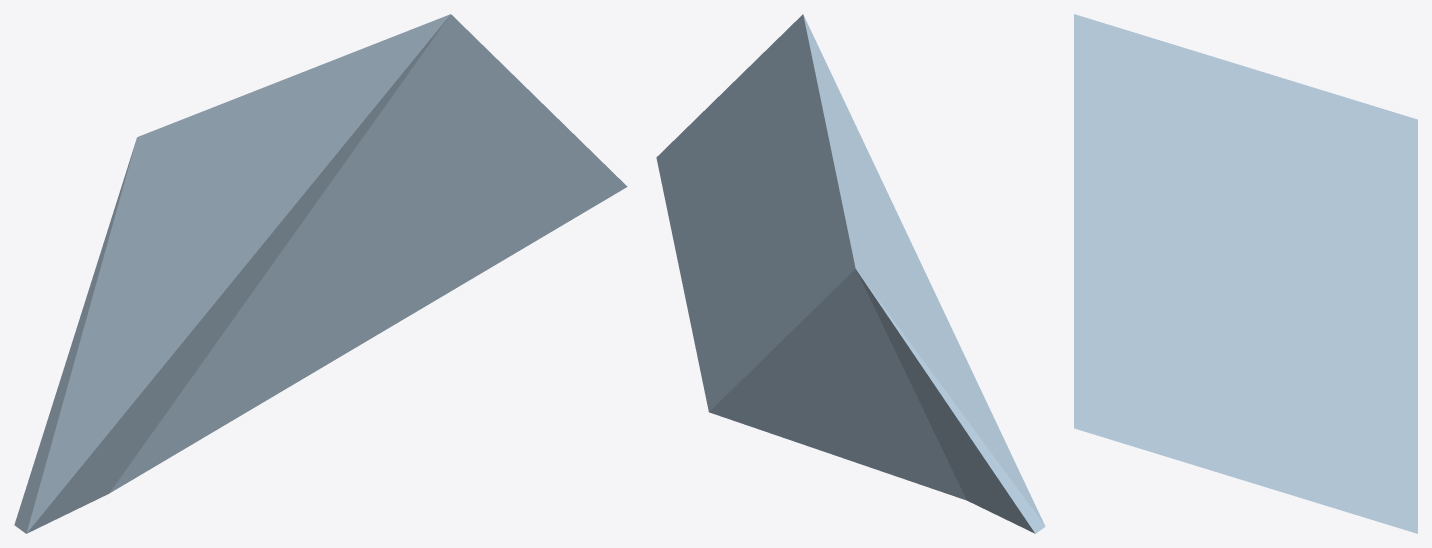
The model's file is Palhaço cubismo right foot.fbx.
3 renders of one model, left to right at view 1: azimuth 30°, elevation 25°; view 2: azimuth 150°, elevation 25°; view 3: azimuth 270°, elevation 25°, orthographic. The views are drawn at different scales.
Visible parts, largest first — view 1: Cube.005; view 2: Cube.005; view 3: Cube.005.
Part boxes in pixels (x1,y1,x2,y2): Cube.005: (14, 14, 627, 533); Cube.005: (656, 14, 1045, 533); Cube.005: (1074, 14, 1417, 533).
Bounding box in the file's own units: 56.23 × 48.33 × 22.82.
